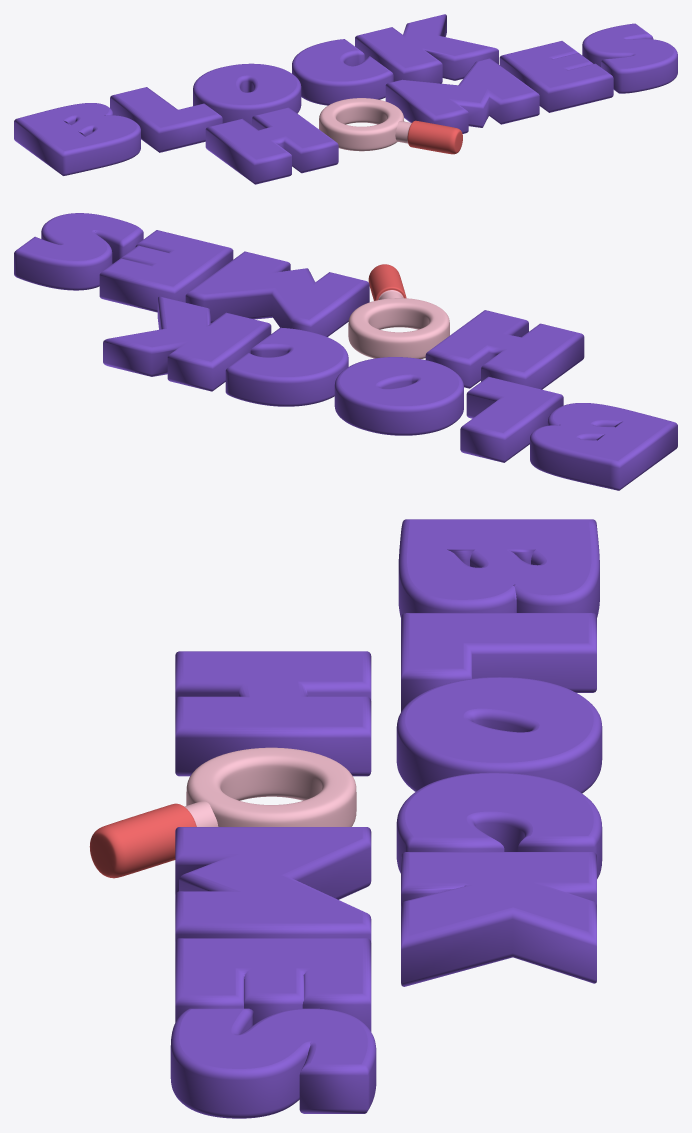
File: blockhomes.glb
3 views of the same model, one above another, from view 1: azimuth 30°, elevation 25°; view 2: azimuth 150°, elevation 25°; view 3: azimuth 270°, elevation 25° (orthographic). The views are drawn at different scales.
Visible parts, largest first — view 1: block; view 2: block; view 3: block.
Part boxes in pixels (bbox=[...]): block: bbox=[14, 14, 677, 184]; block: bbox=[14, 213, 677, 490]; block: bbox=[89, 519, 602, 1118].
Bounding box in the file's own units: 7.8 × 0.3209 × 3.04.
